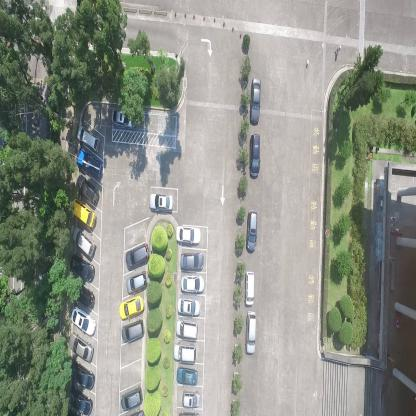car: (70, 305, 97, 336), (68, 331, 94, 363), (70, 197, 96, 229), (72, 225, 96, 259), (75, 149, 102, 178), (70, 361, 96, 391), (74, 174, 99, 205), (69, 253, 95, 282), (125, 240, 150, 270), (119, 293, 145, 321), (68, 387, 94, 415), (71, 280, 95, 309), (75, 125, 100, 152), (122, 318, 146, 344), (120, 384, 144, 410), (249, 78, 261, 127), (148, 192, 174, 214), (245, 209, 258, 252), (245, 310, 257, 356), (174, 318, 198, 341), (177, 295, 202, 317), (126, 270, 148, 295), (175, 224, 201, 245), (110, 108, 136, 129), (180, 250, 204, 272), (173, 342, 197, 364), (180, 274, 204, 295), (250, 134, 260, 178), (176, 366, 198, 386), (181, 387, 201, 409), (244, 270, 255, 308)
